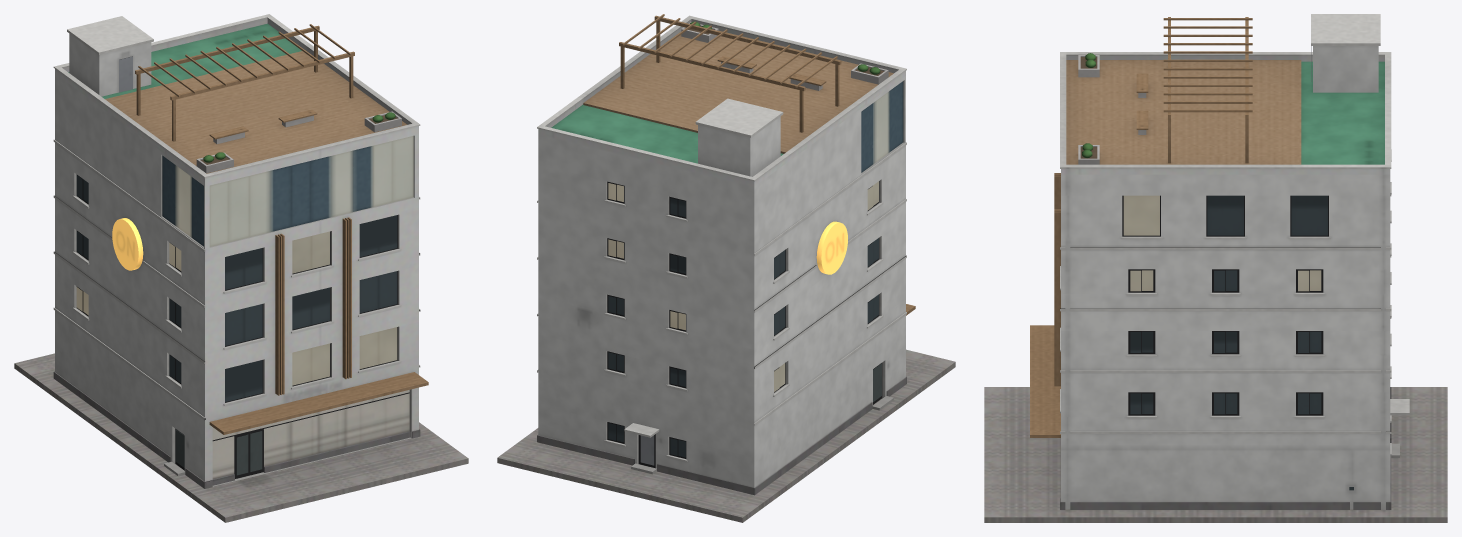
File: IlsanYouthStage_LOD2.fbx
3 views of the same model, side by side, from view 1: azimuth 30°, elevation 25°; view 2: azimuth 150°, elevation 25°; view 3: azimuth 270°, elevation 25° (orthographic). The views are drawn at different scales.
Parts seen in each view (by area): view 1: IlsanYouthStage_LOD2; view 2: IlsanYouthStage_LOD2; view 3: IlsanYouthStage_LOD2.
Part boxes in pixels (left/top/right/bottom): IlsanYouthStage_LOD2: left=14, top=14, right=468, bottom=522; IlsanYouthStage_LOD2: left=497, top=14, right=955, bottom=522; IlsanYouthStage_LOD2: left=984, top=14, right=1447, bottom=522.
Size of the model in its own units: 15.9 by 22.42 by 23.9.
1 material, 1 textured.
